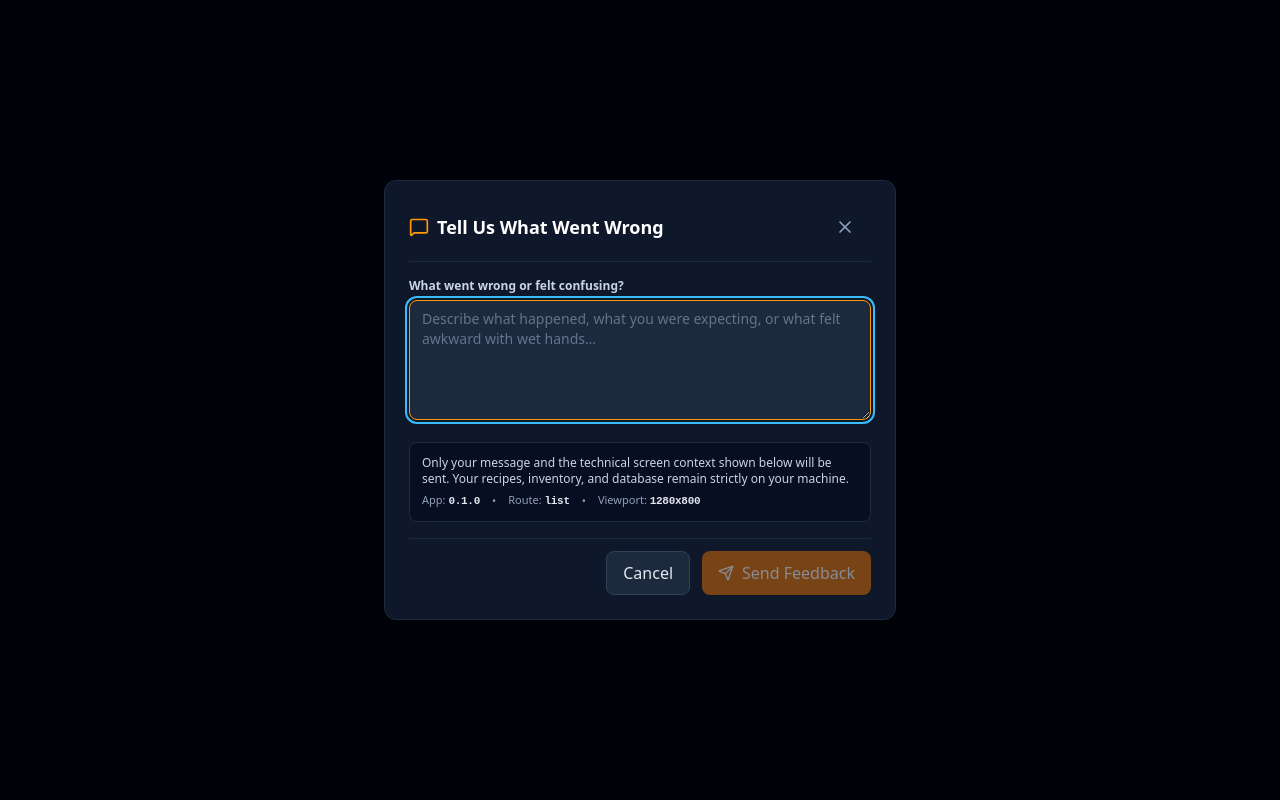
Scenario: M43_P1 Feedback Web Component Tests › AC-17: non-destructive error handling preserves typed message in textarea upon error
Note: Type a message
Replace the text in the text box with test id "feedback-message-input" with "Kettle element shut off unexpectedly" at coordinates (640, 360), box 409,300 -> 871,420
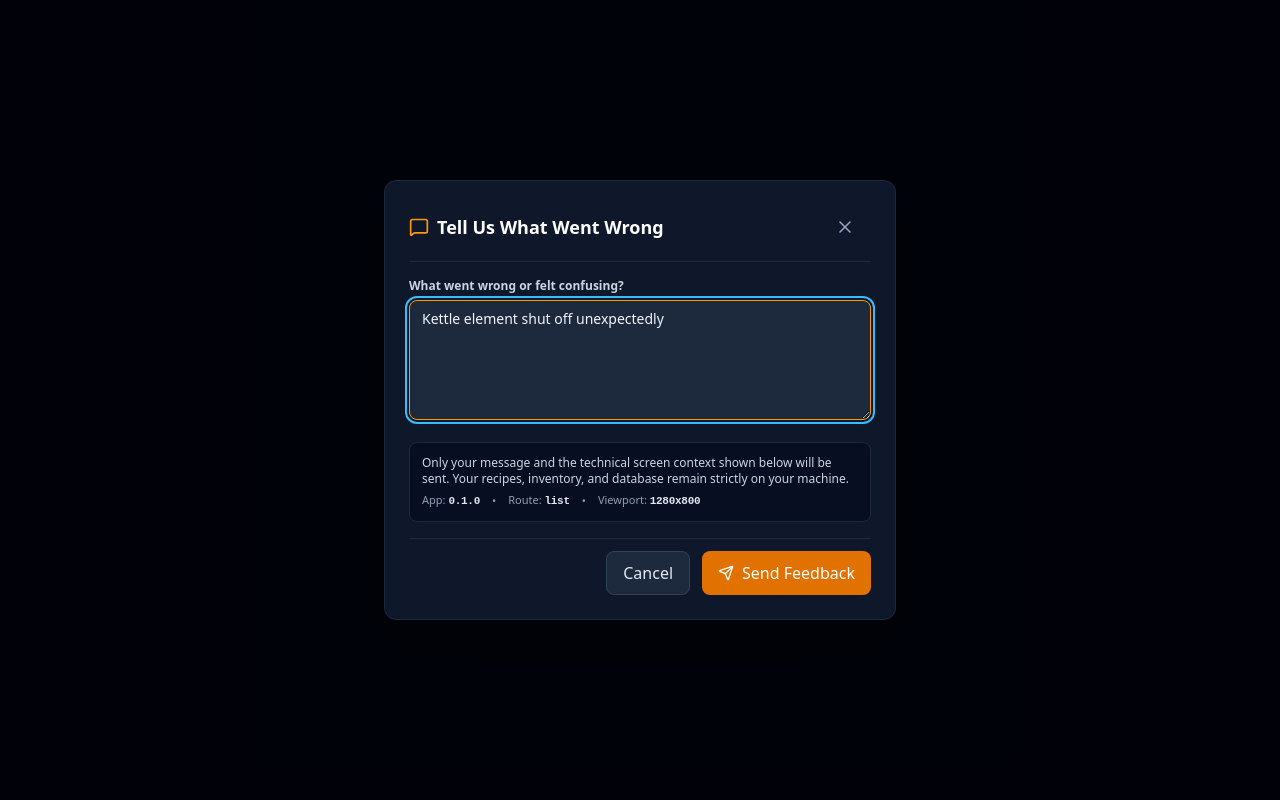
Click the button with test id "feedback-send-button" at coordinates (787, 573), box 702,551 -> 871,595
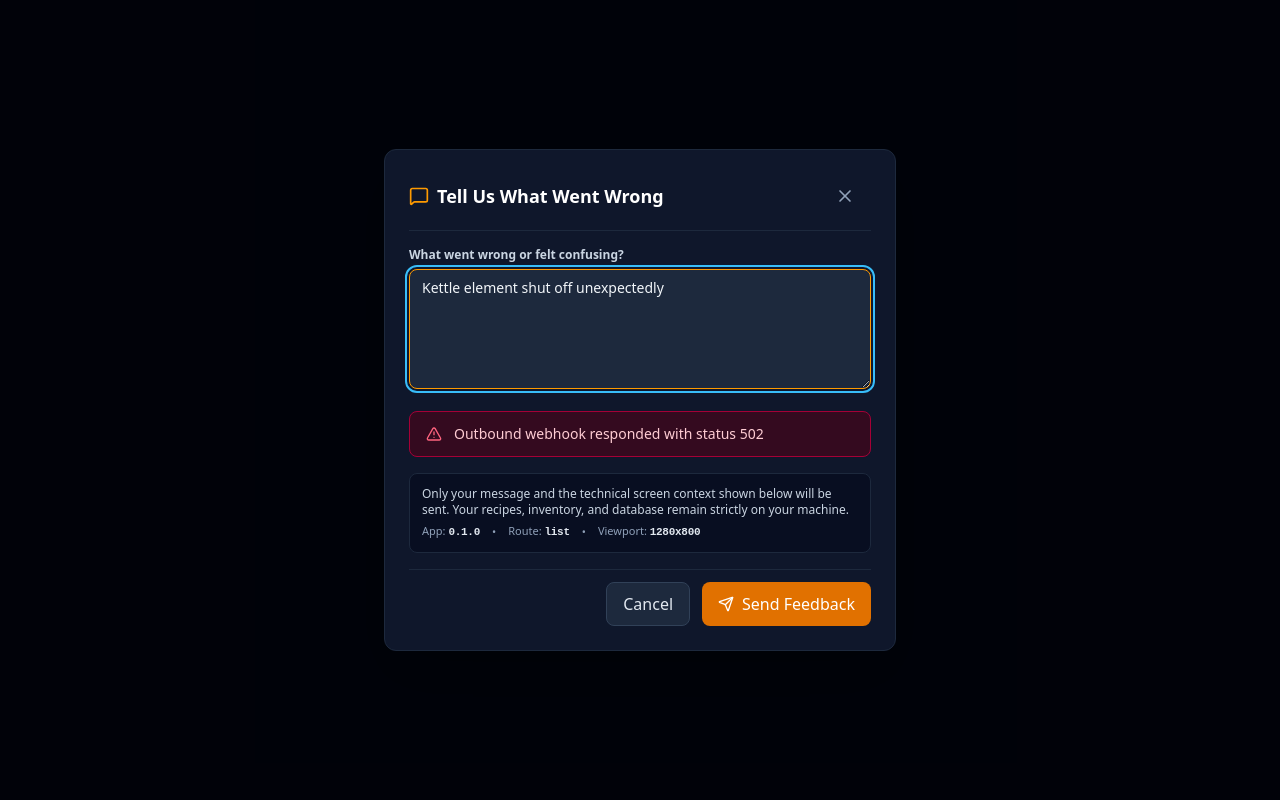
Check: the element with test id "feedback-error-banner" is shown, box 409,411 -> 871,457
Check: the element with test id "feedback-error-banner" reads "Outbound webhook responded with status 502", box 454,424 -> 764,443
